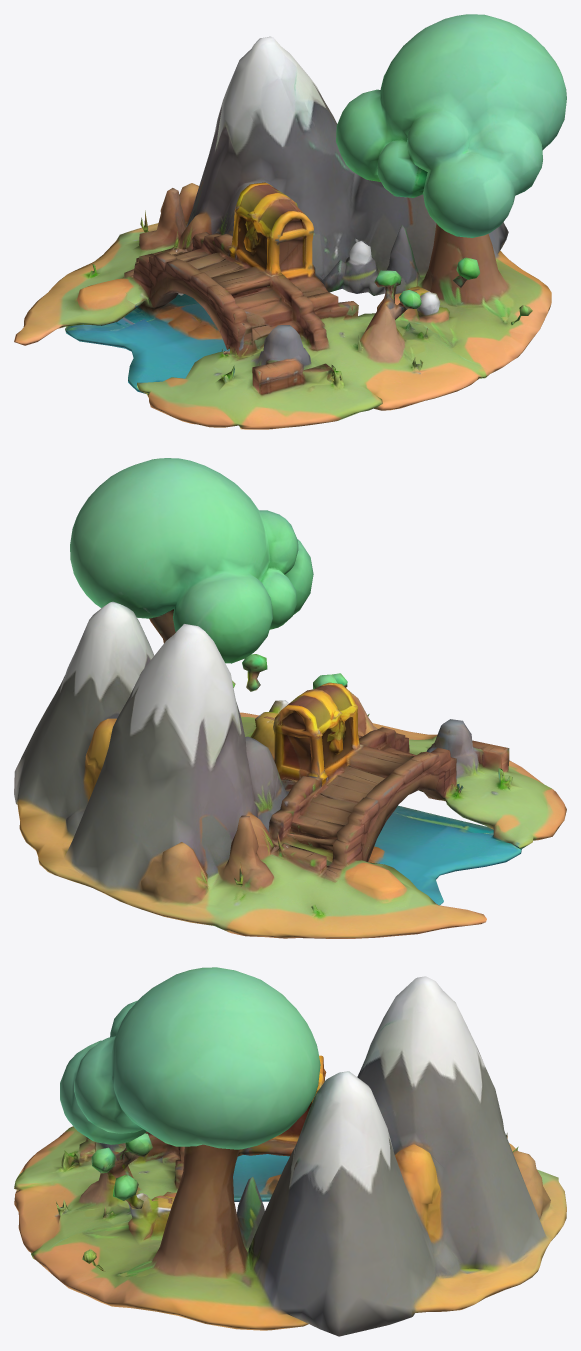
The model's file is low_poly_adventure_asset_pack.glb.
3 renders of one model, top to bottom at view 1: azimuth 30°, elevation 25°; view 2: azimuth 150°, elevation 25°; view 3: azimuth 270°, elevation 25°, orthographic. The views are drawn at different scales.
Parts seen in each view (by area): view 1: Object_4; view 2: Object_4; view 3: Object_4.
Part boxes in pixels (x1,y1,x2,y2): Object_4: (14, 14, 566, 429); Object_4: (14, 458, 566, 938); Object_4: (14, 967, 566, 1336).
Size of the model in its own units: 1.99 by 1.17 by 1.78.
1 material, 1 textured.
